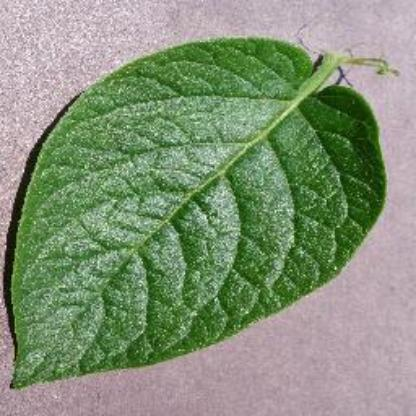Healthy-plant: (11, 34, 387, 390)
